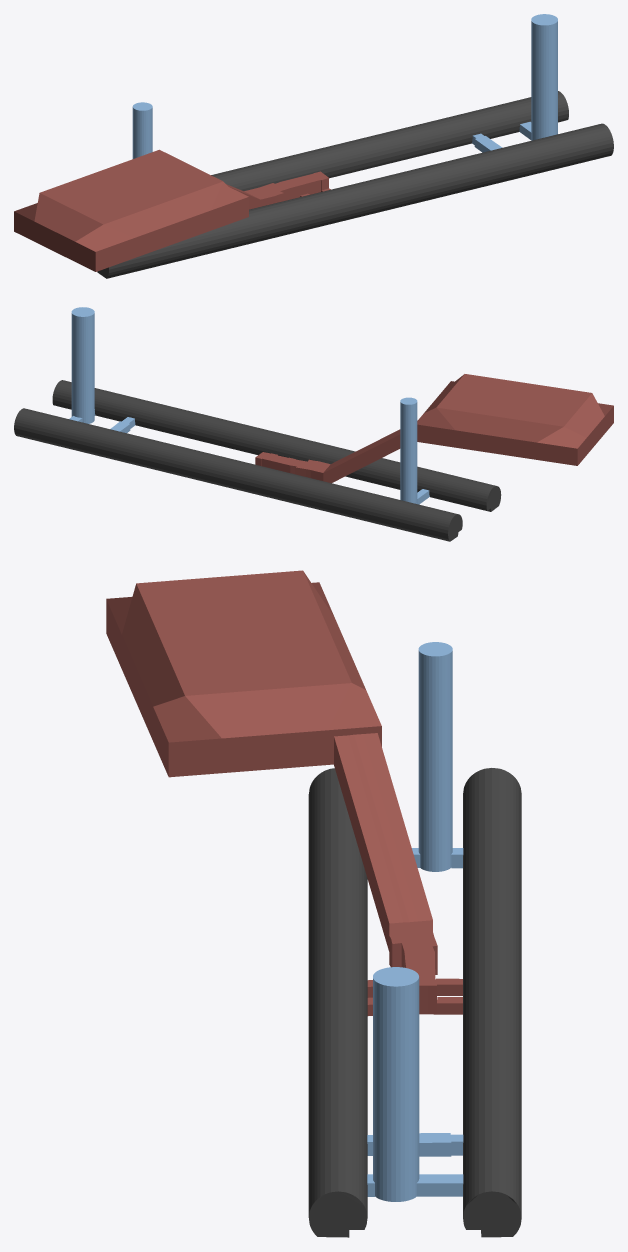
3 renders of one model, top to bottom at view 1: azimuth 30°, elevation 25°; view 2: azimuth 150°, elevation 25°; view 3: azimuth 270°, elevation 25°, orthographic. The views are drawn at different scales.
Visible parts, largest first — view 1: TicketHall, PLT1, PLT2, 16, Concourse, 25; view 2: PLT2, TicketHall, PLT1, 16, 25, ESC, Concourse; view 3: TicketHall, PLT2, PLT1, 16, ESC, 25, Concourse, 34.
Part boxes in pixels (x1,y1,x2,y2): TicketHall: (14, 149, 248, 271); PLT1: (97, 123, 613, 278); PLT2: (211, 91, 568, 190); 16: (519, 14, 557, 140); Concourse: (244, 171, 328, 206); 25: (132, 102, 152, 158); PLT2: (14, 408, 462, 541); TicketHall: (417, 374, 613, 465); PLT1: (52, 380, 501, 511); 16: (69, 307, 95, 423); 25: (400, 397, 429, 504); ESC: (323, 429, 400, 483); Concourse: (255, 452, 330, 480); TicketHall: (106, 570, 381, 777); PLT2: (463, 768, 521, 1237); PLT1: (308, 768, 367, 1237); 16: (367, 967, 463, 1201); ESC: (334, 733, 432, 951); 25: (412, 642, 463, 871); Concourse: (389, 920, 437, 1014); 34: (367, 1133, 463, 1156).
Size of the model in its own units: 186 by 38.67 by 65.05.
